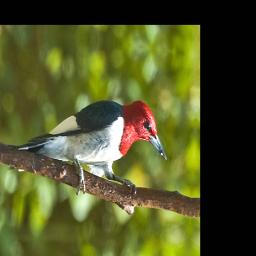Woodpecker: (9, 81, 169, 208)
